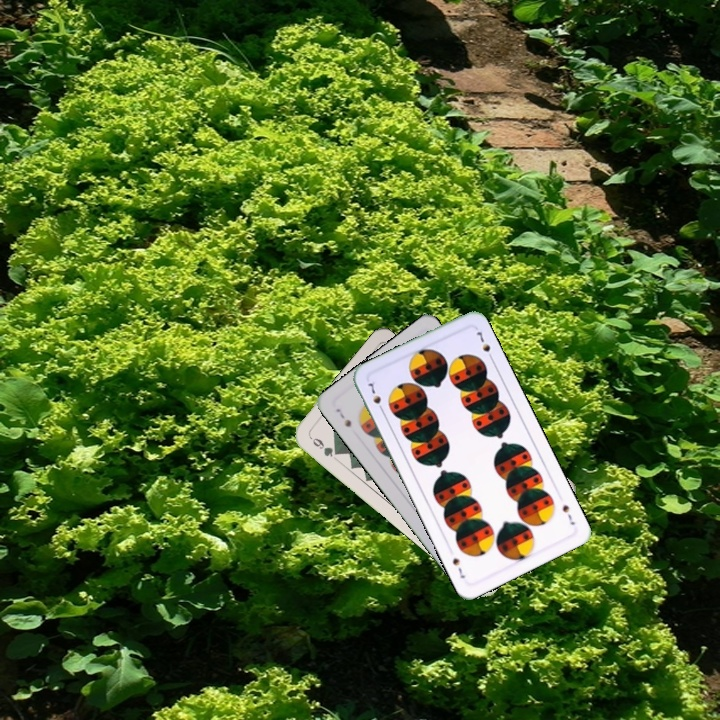G9: (305, 432, 342, 460)
S7: (364, 378, 387, 415), (332, 404, 354, 430), (558, 500, 577, 528)
